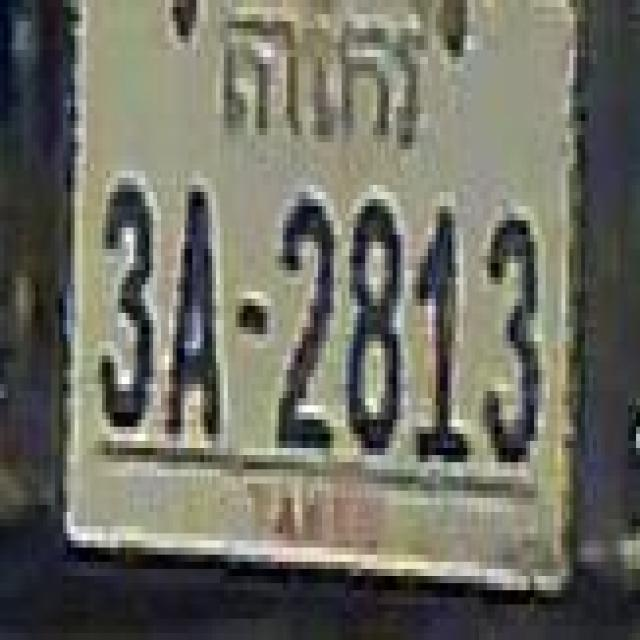Takeo: (216, 7, 428, 148)
